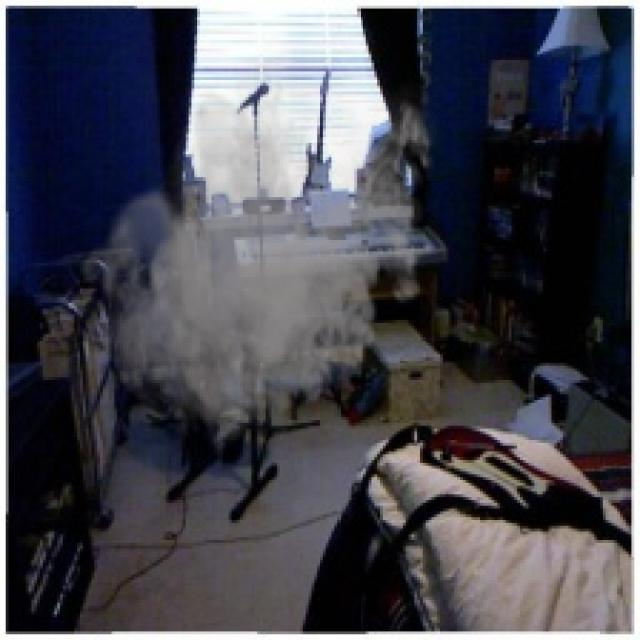Smoke: (77, 32, 443, 457)
